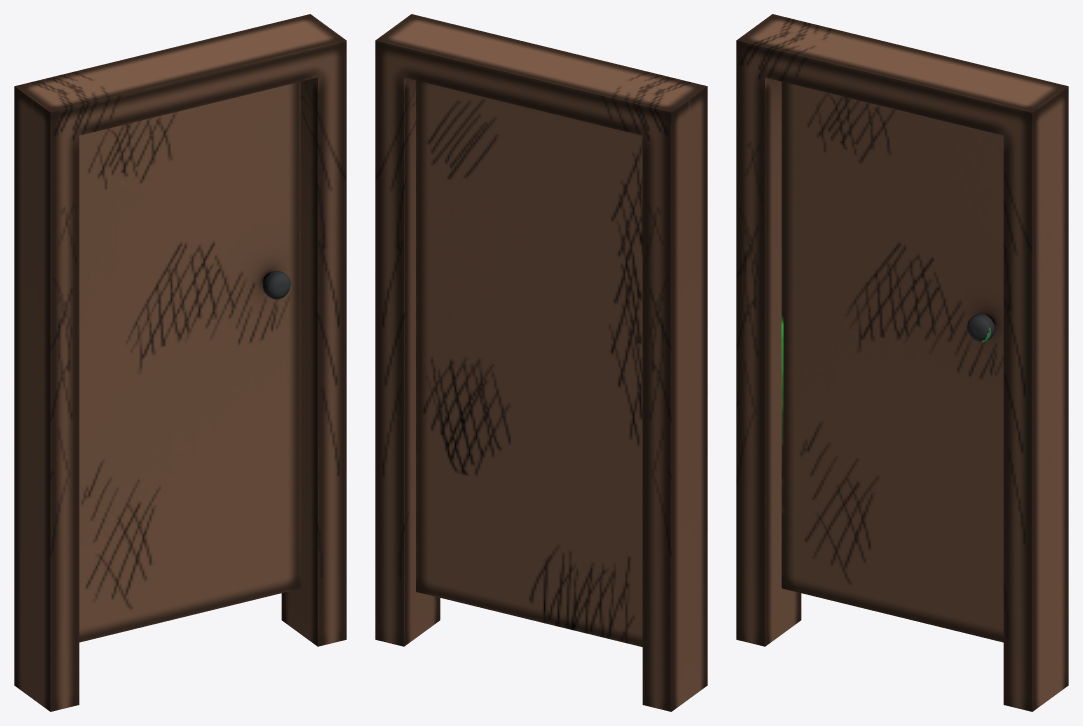
Rendered from StandingDoor_02.fbx.
The picture shows the model from 3 angles, left to right: view 1: azimuth 30°, elevation 25°; view 2: azimuth 150°, elevation 25°; view 3: azimuth 330°, elevation 25°; orthographic projection.
Visible parts, largest first — view 1: Cube.017, Cube.015; view 2: Cube.017, Cube.015; view 3: Cube.017, Cube.015.
Part boxes in pixels (<box>): Cube.017: <box>79,81,300,642</box>; Cube.015: <box>14,14,346,711</box>; Cube.017: <box>416,80,642,646</box>; Cube.015: <box>375,14,707,711</box>; Cube.017: <box>781,81,1003,642</box>; Cube.015: <box>736,14,1068,711</box>.
Bounding box in the file's own units: 103 × 200 × 21.83.
